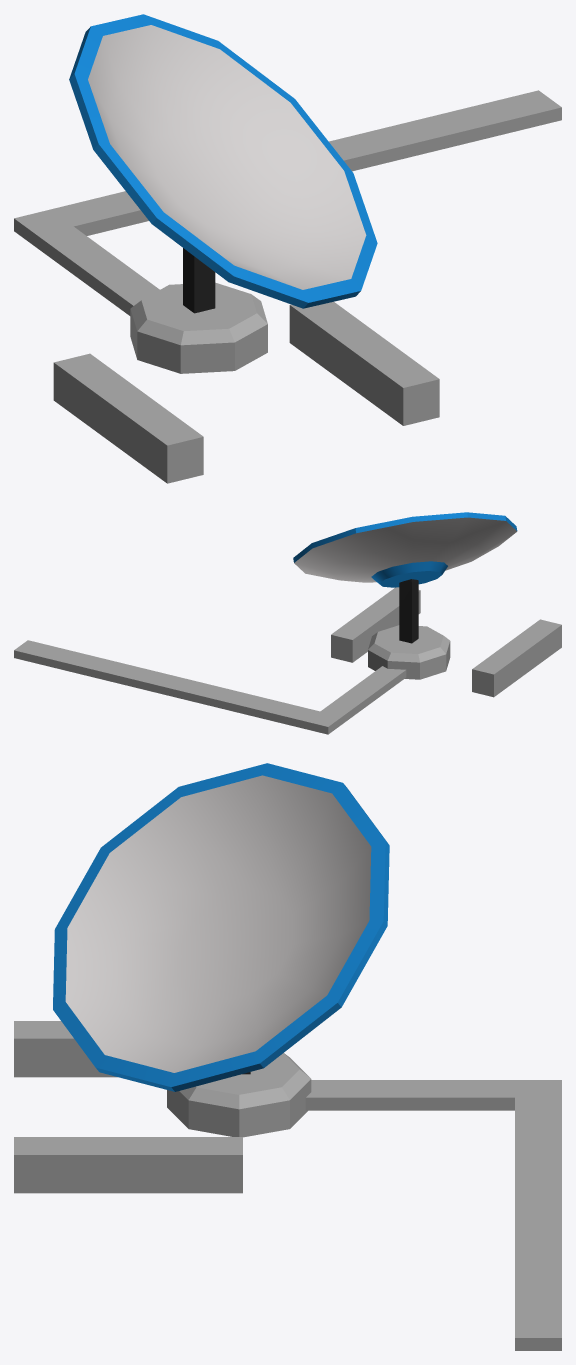
3 views of the same model, one above another, from view 1: azimuth 30°, elevation 25°; view 2: azimuth 150°, elevation 25°; view 3: azimuth 270°, elevation 25° (orthographic). The views are drawn at different scales.
Visible parts, largest first — view 1: Radar, GroundLight3, GroundLight1, Base, GroundLight2, Fence; view 2: Radar, GroundLight3, GroundLight1, Base, GroundLight2, Fence; view 3: Radar, GroundLight3, GroundLight2, Base, GroundLight1.
Boxes of the visible parts, <box> form: Radar: <box>69,14,377,308</box>; GroundLight3: <box>14,90,561,315</box>; GroundLight1: <box>53,353,203,483</box>; Base: <box>130,282,267,373</box>; GroundLight2: <box>289,301,439,425</box>; Fence: <box>183,248,215,313</box>; Radar: <box>293,512,517,587</box>; GroundLight3: <box>14,640,406,734</box>; GroundLight1: <box>472,619,561,697</box>; Base: <box>368,625,450,679</box>; GroundLight2: <box>331,587,420,662</box>; Fence: <box>399,579,418,643</box>; Radar: <box>53,763,389,1091</box>; GroundLight3: <box>305,1080,561,1350</box>; GroundLight2: <box>14,1137,242,1193</box>; Base: <box>167,1053,311,1137</box>; GroundLight1: <box>14,1021,117,1077</box>.
Size of the model in its own units: 17.67 by 8.31 by 12.93.
